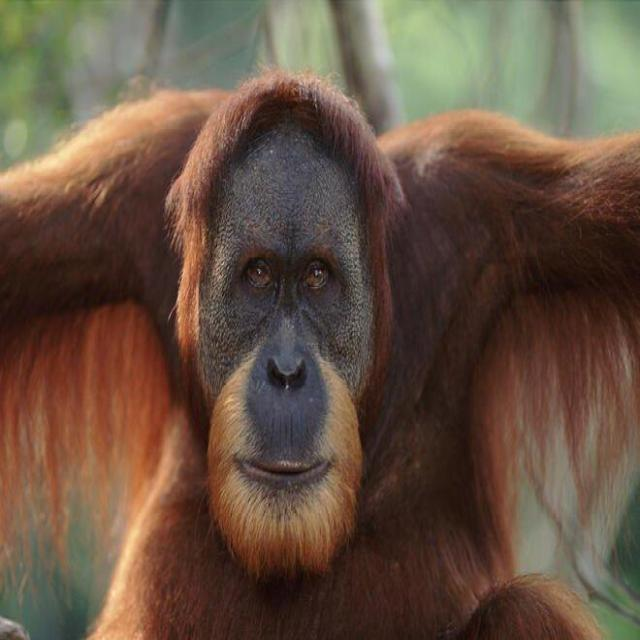Chimpanzee: (90, 59, 503, 572)
